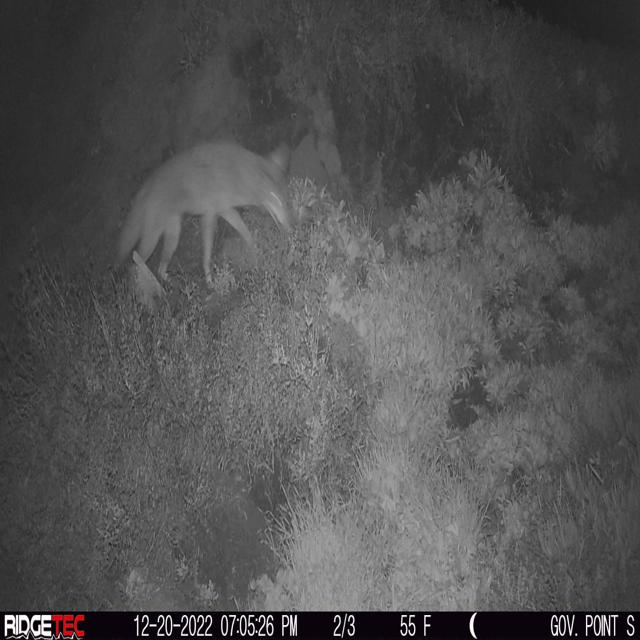coyote: (116, 139, 296, 296)
